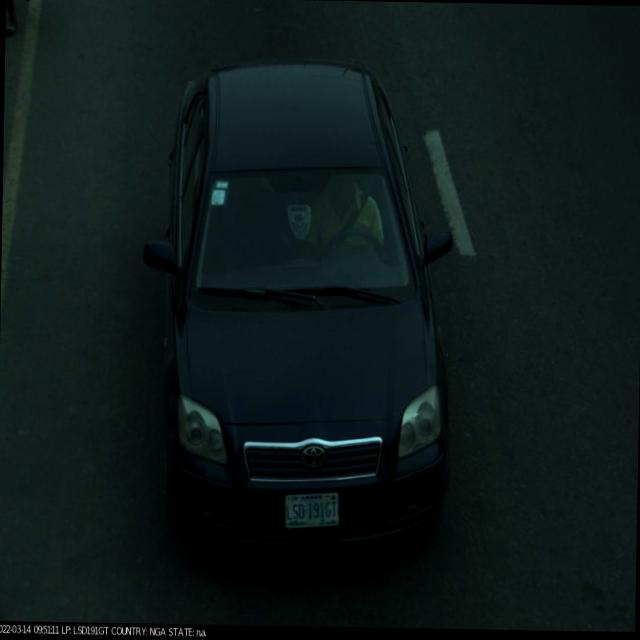person_with_seatbelt: (302, 169, 390, 272)
